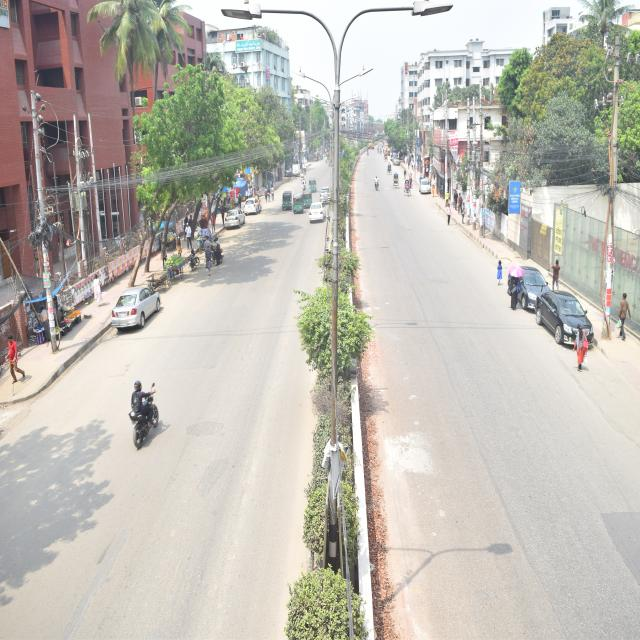car: (540, 276, 602, 379), (497, 245, 565, 336), (106, 264, 160, 344), (412, 170, 455, 200), (240, 191, 282, 216), (224, 204, 251, 241), (306, 196, 330, 237), (318, 182, 338, 212), (308, 169, 320, 193)
motorbike: (113, 348, 177, 442), (202, 228, 244, 289), (182, 236, 206, 287), (371, 170, 388, 203), (298, 169, 308, 194)
pickup-van: (288, 155, 302, 174)
